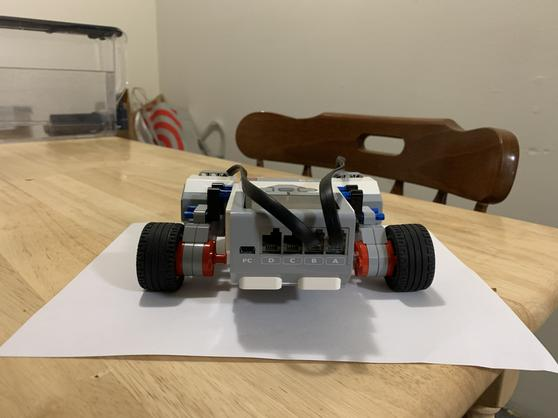robot: (111, 157, 464, 297)
